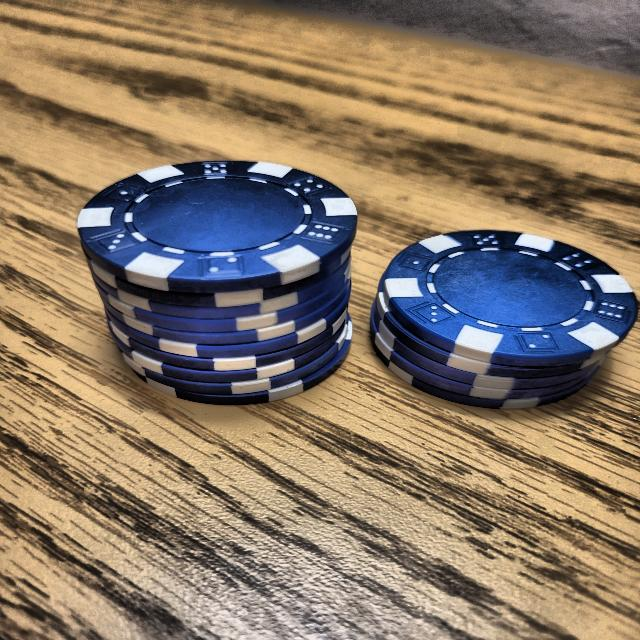Chip: (45, 137, 388, 411)
